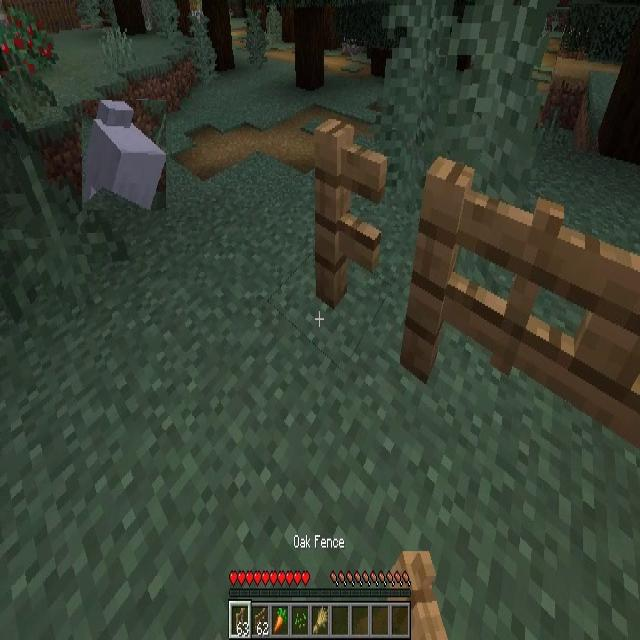sheep: (82, 100, 166, 210)
